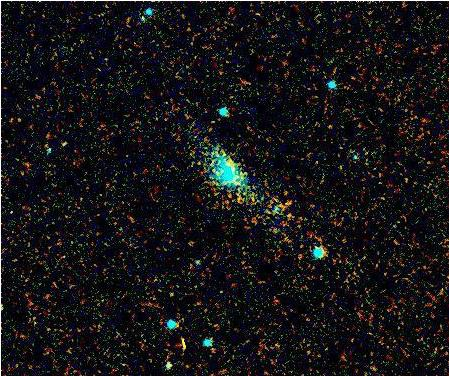star: (184, 146, 214, 176)
